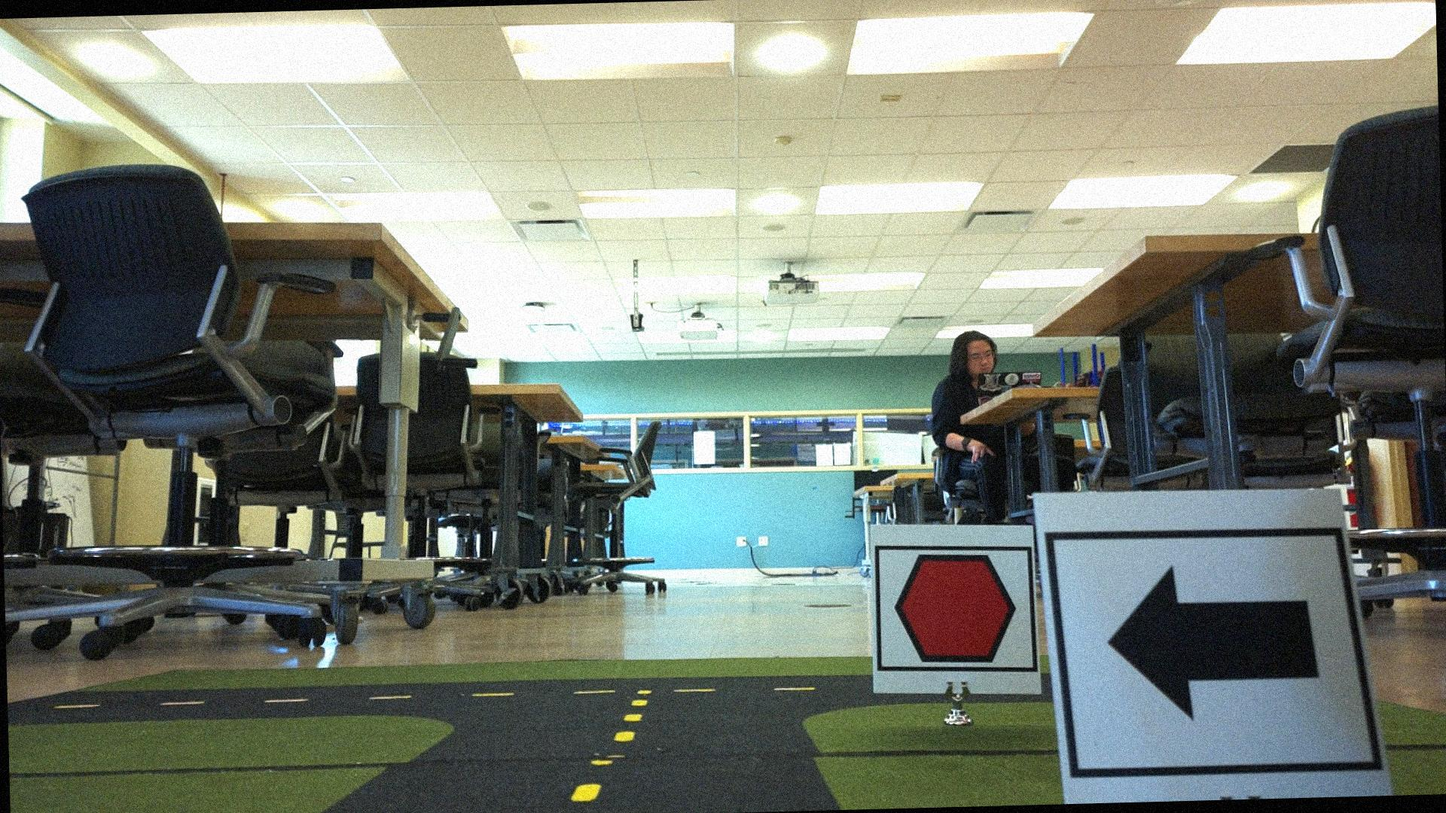stop: (878, 546, 1032, 671)
turnright: (1057, 528, 1350, 784)
yellowline: (571, 697, 650, 805)
